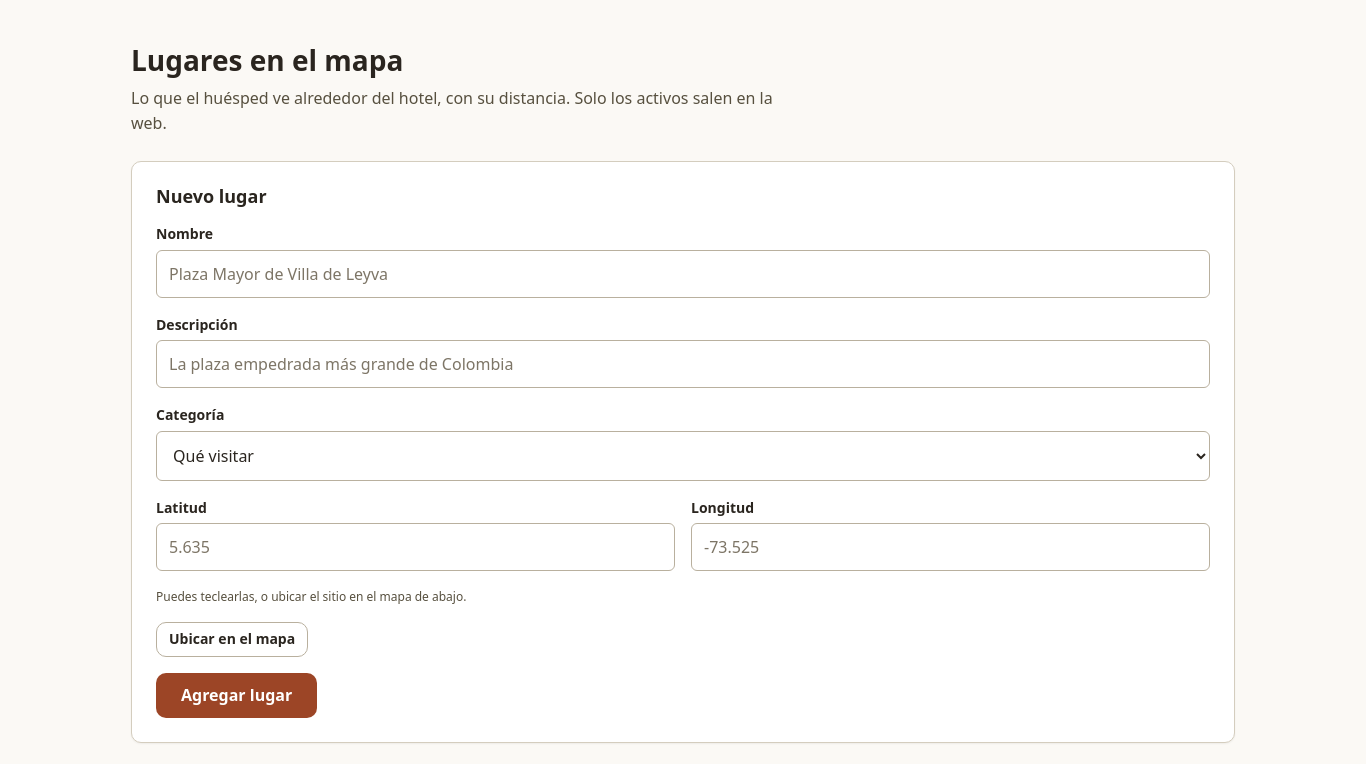
Test: edición de lugares del mapa › permite clasificar y guardar un lugar nuevo
The image size is (1366, 764).
Select "Qué comer" in the dropdown labelled "Categoría" at x=683, y=456, box [156, 430, 1210, 480]
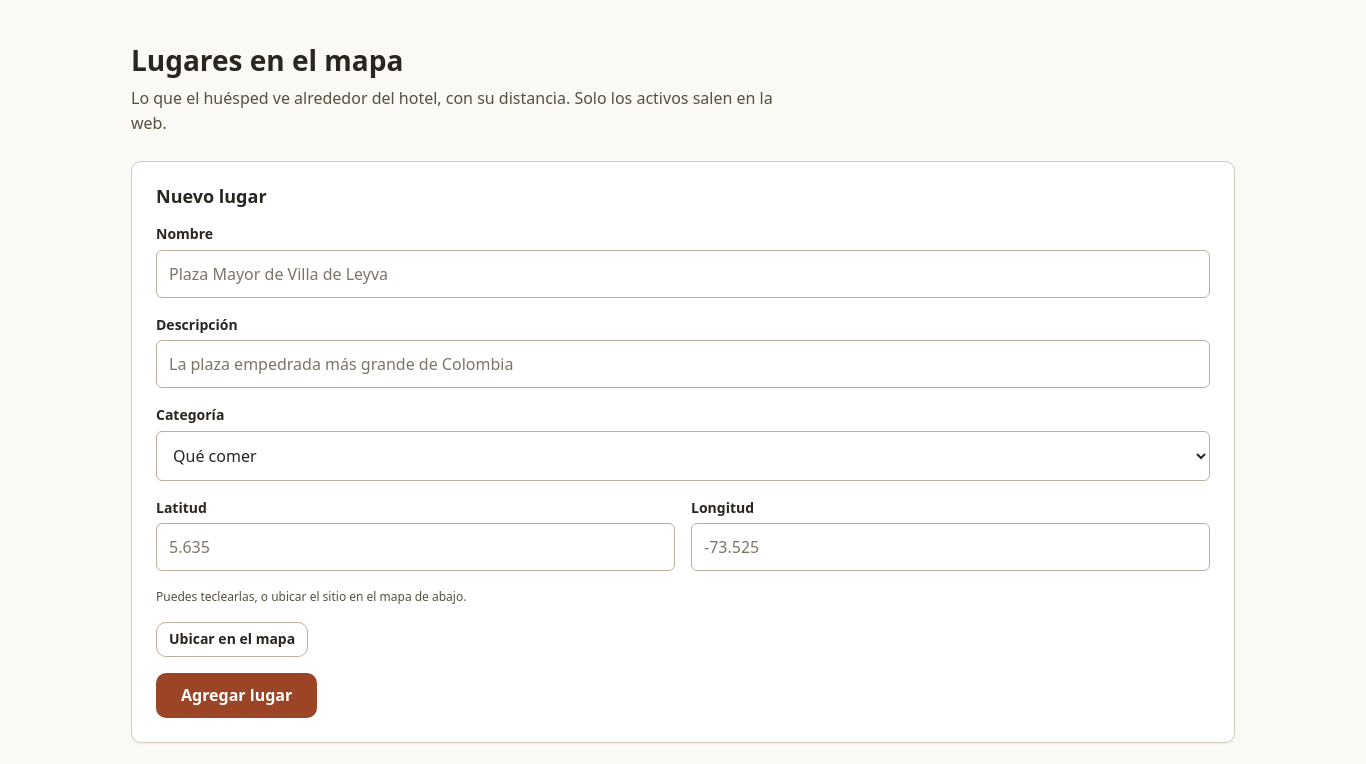
Type "Café del pueblo" into the field labelled "Nombre" at x=683, y=274, box [156, 250, 1210, 298]
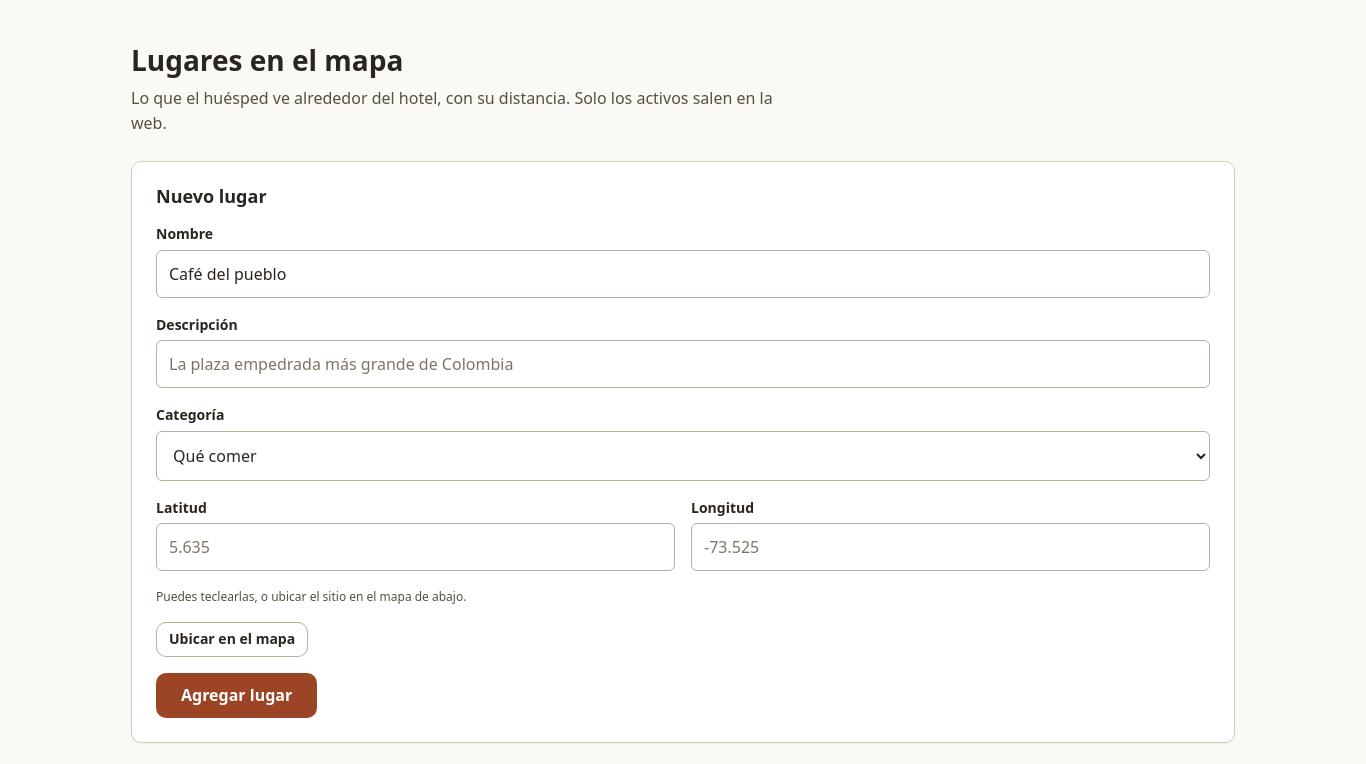
Type "Café local" into the field labelled "Descripción" at x=683, y=364, box [156, 340, 1210, 388]
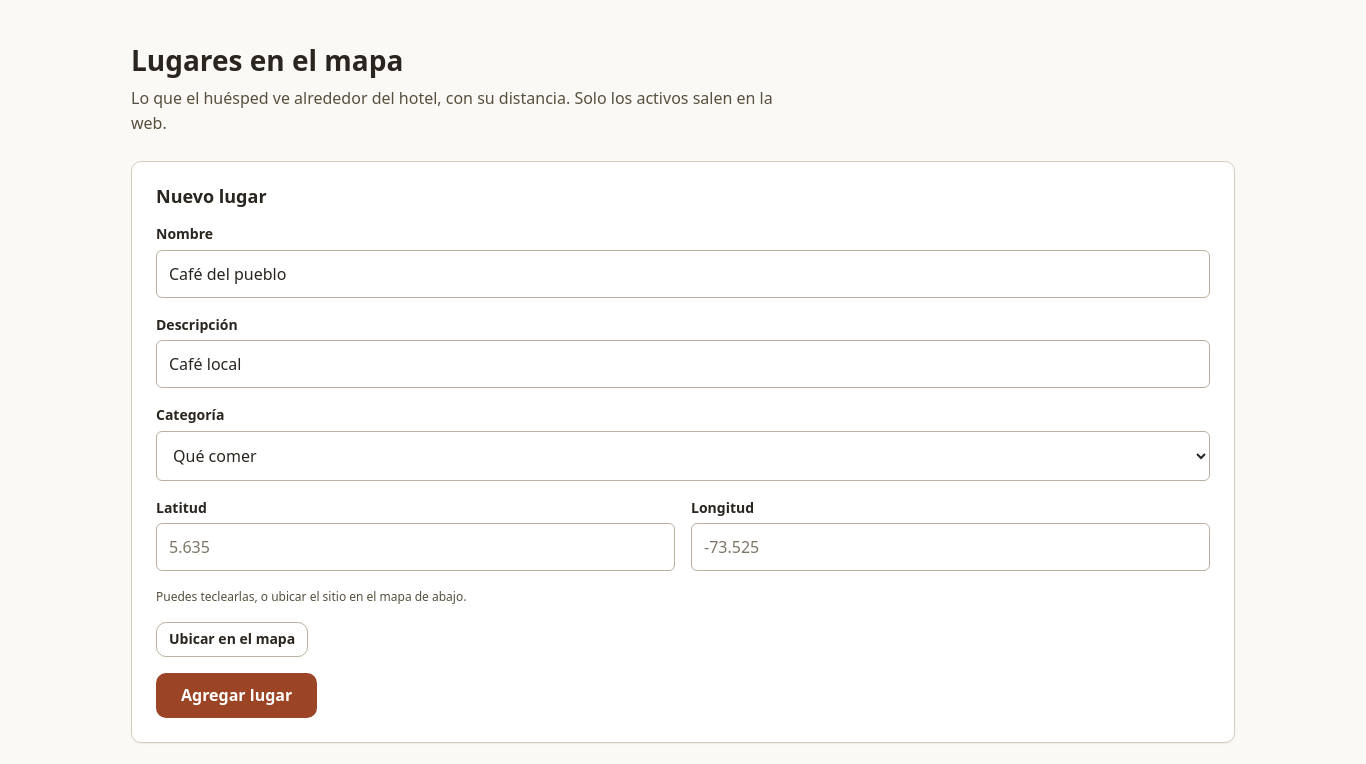
Type "5.63" into the number field labelled "Latitud" at x=416, y=547, box [156, 523, 675, 571]
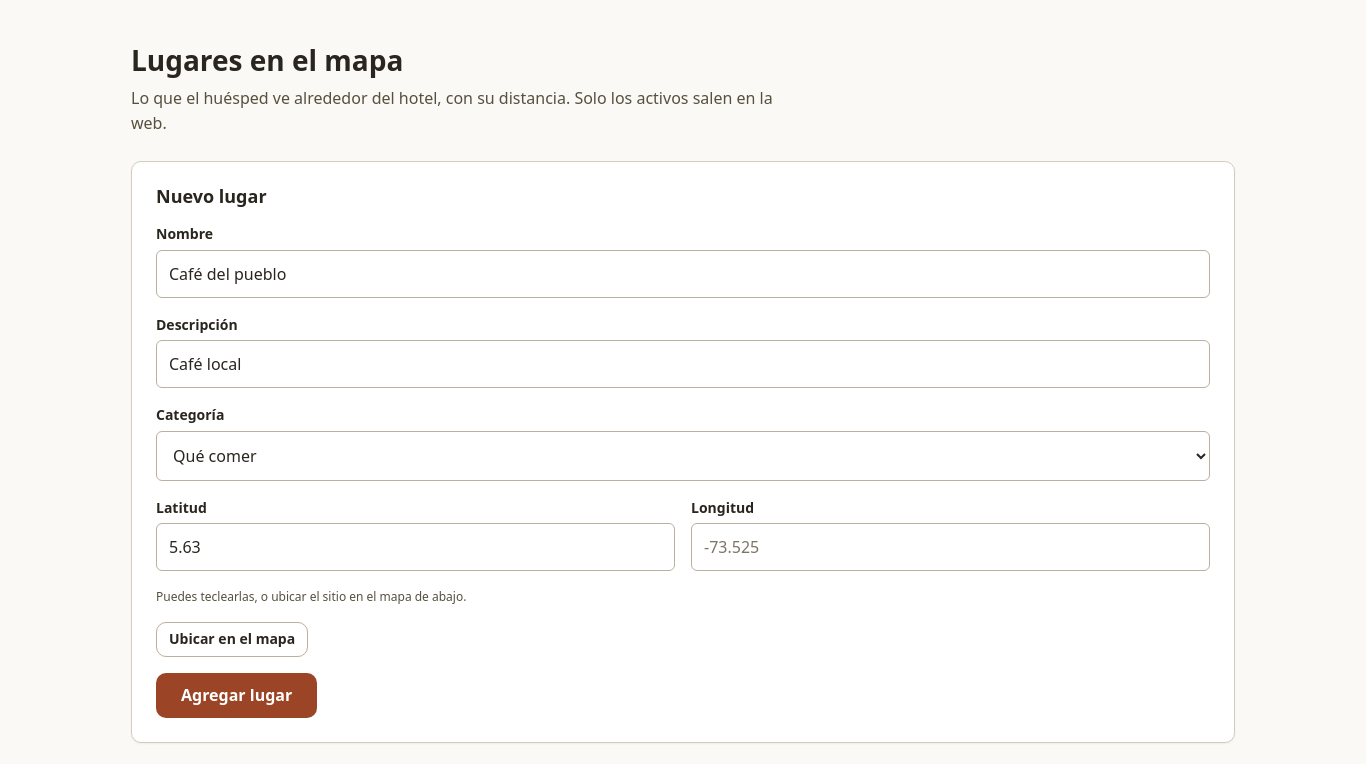
Type "-73.52" into the number field labelled "Longitud" at x=950, y=547, box [691, 523, 1210, 571]
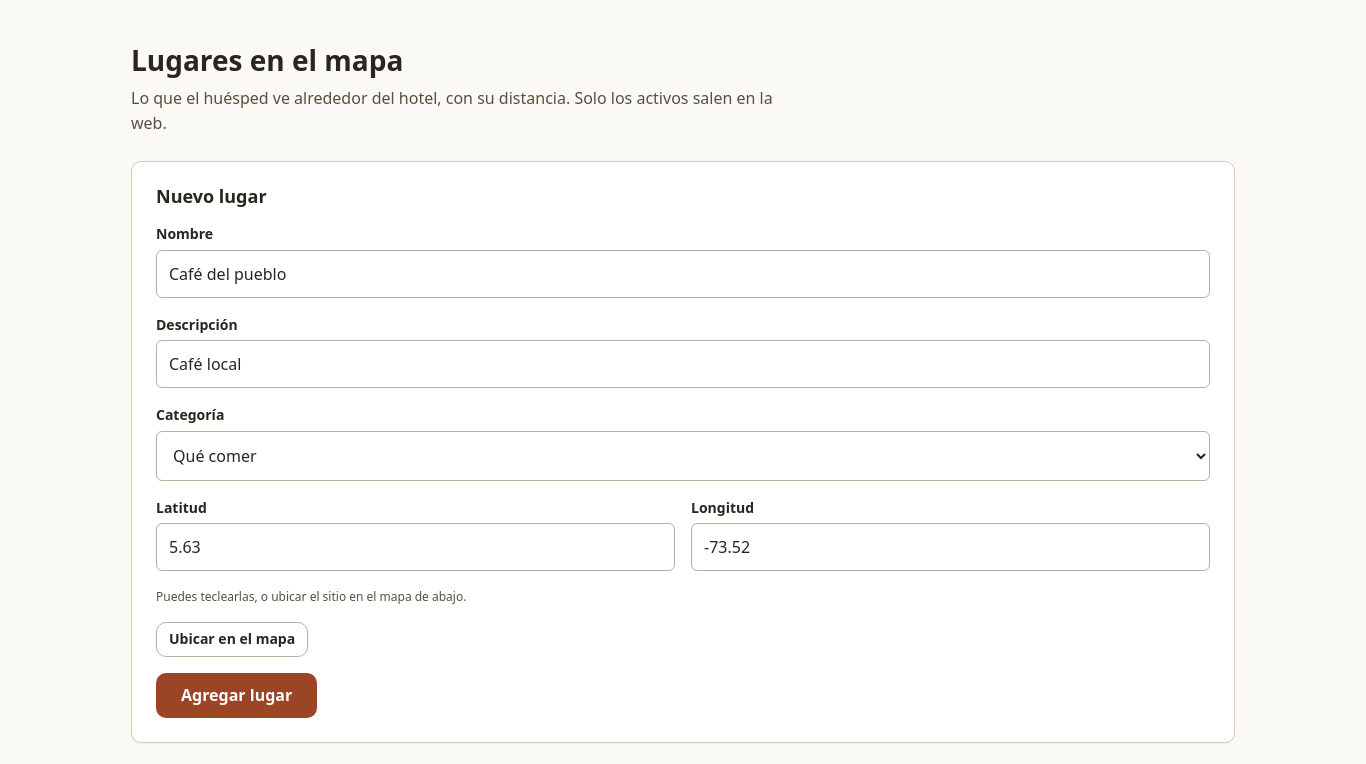
Click the button "Agregar lugar" at x=237, y=696, box [156, 673, 317, 718]
(page scrolled)
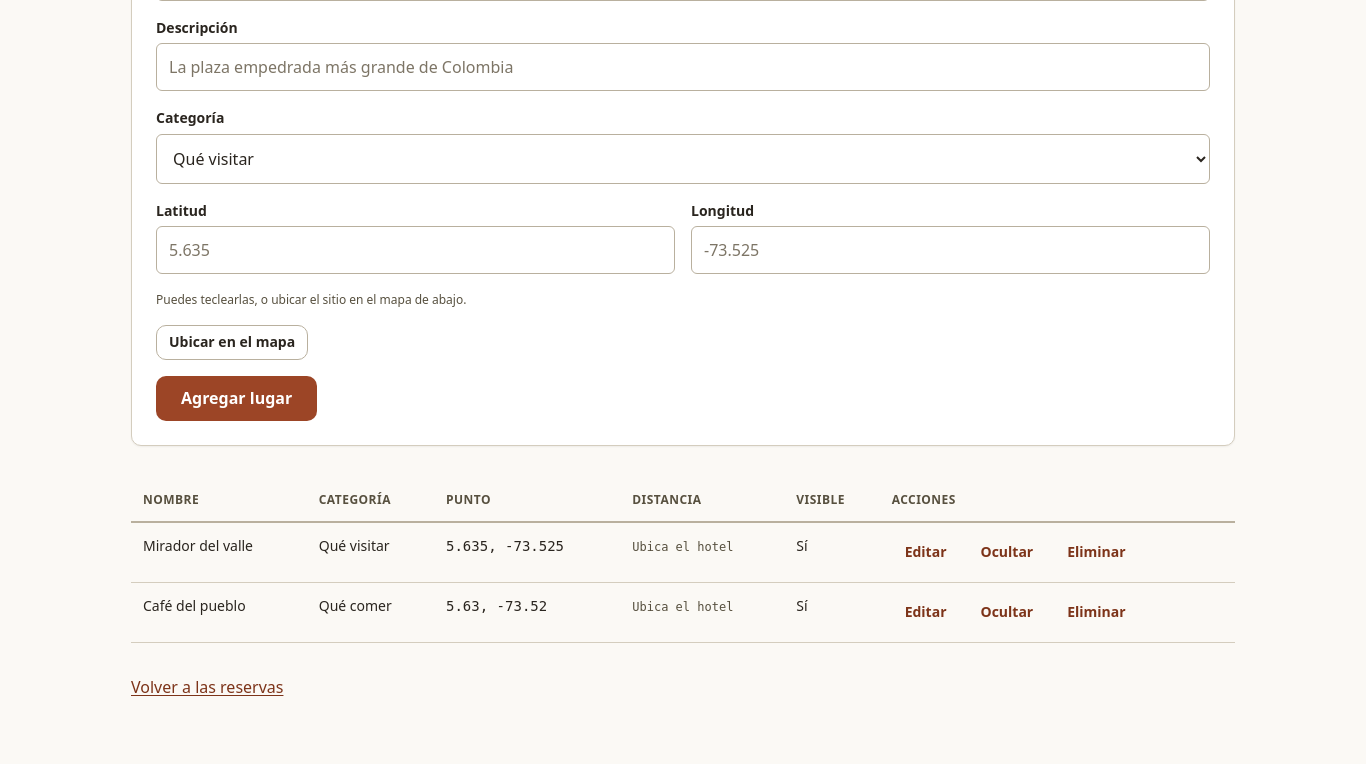
Check: the row that starts with "Café del pueblo" is shown, box [131, 583, 1235, 642]
